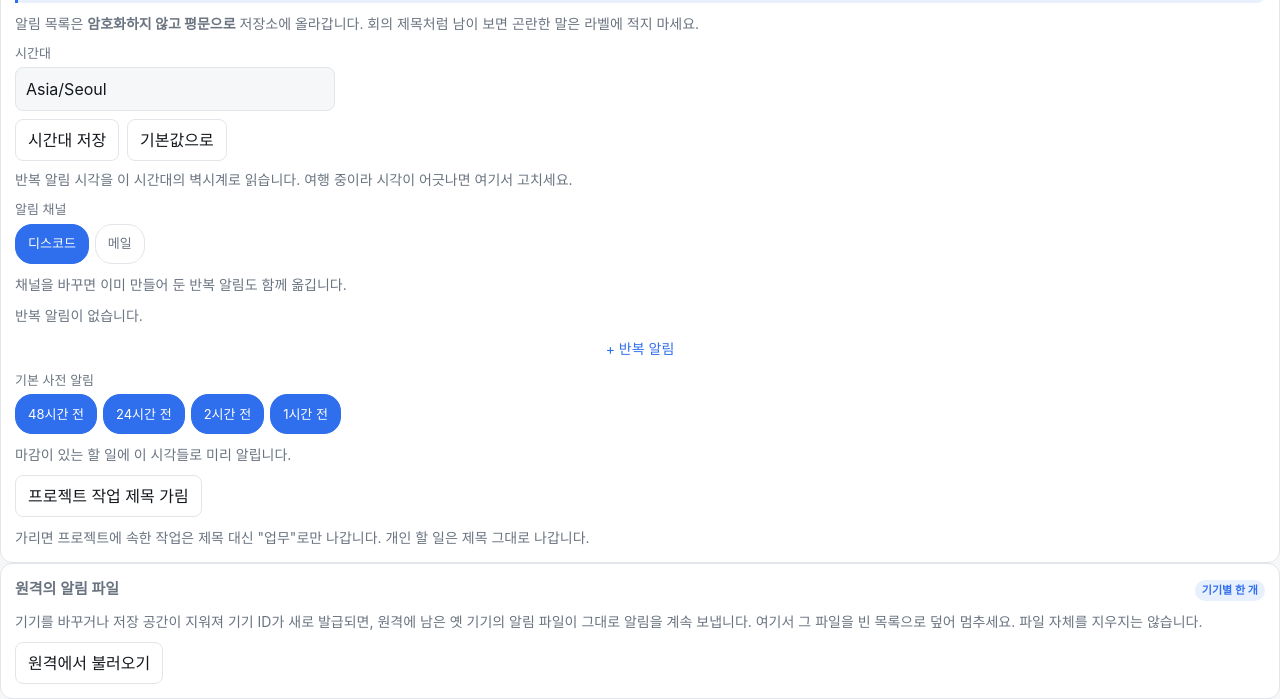
Test: 알림 설정 — 좀비 알림 파일 비우기 › 원격을 읽지 못하면 까닭을 보여준다
(page scrolled)
What coordinates should you click on to do the following:
click the button "원격에서 불러오기"
I would click on:
 (89, 663)
Its box is [15,642,163,684].
(page scrolled)
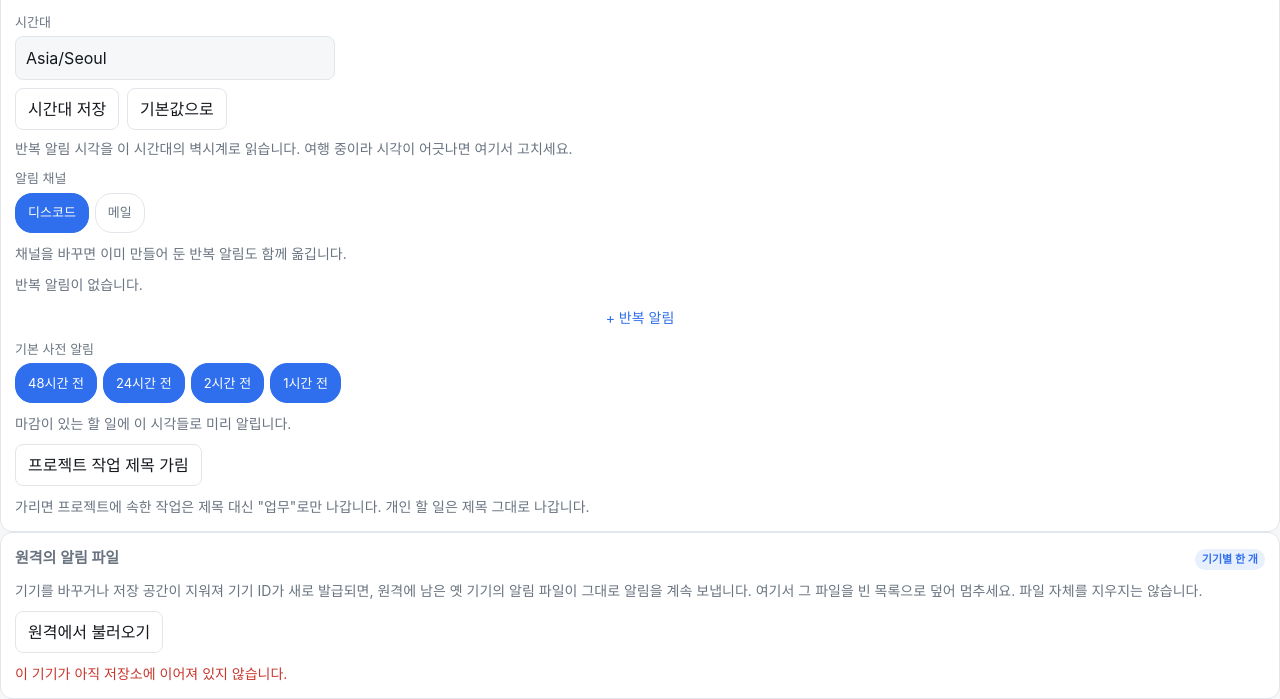
expect the text "이 기기가 아직 저장소에 이어져 있지 않습니다." is shown: met, box [15,665,287,682]
